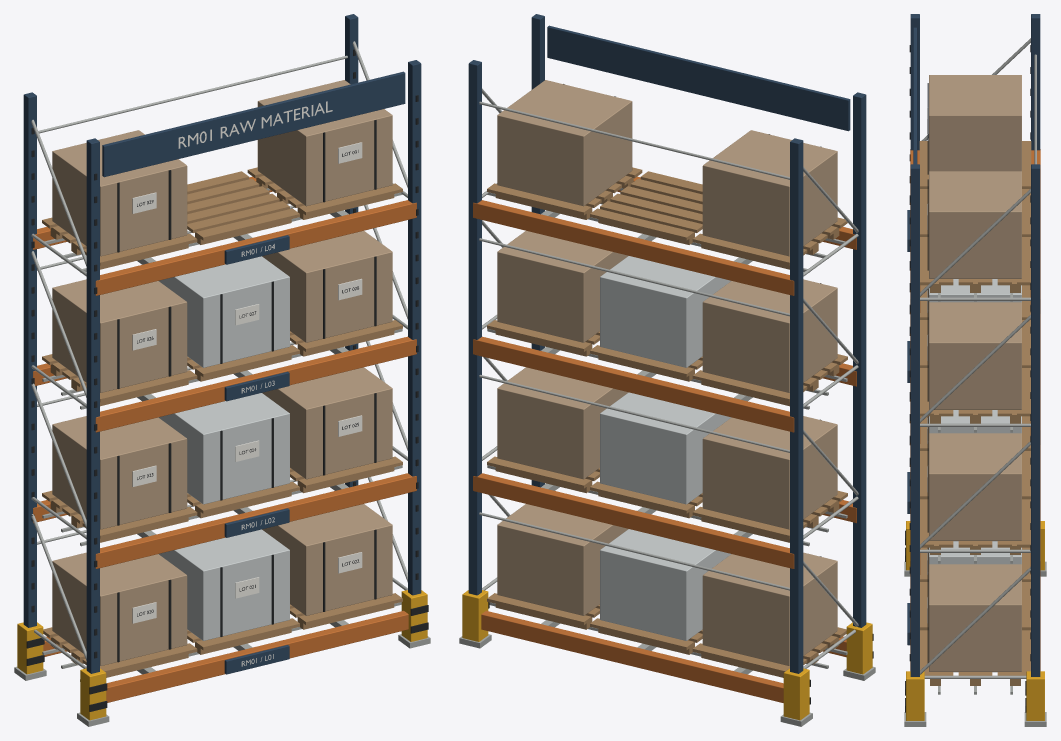
Rendered from factory-rack.glb.
The picture shows the model from 3 angles, left to right: view 1: azimuth 30°, elevation 25°; view 2: azimuth 150°, elevation 25°; view 3: azimuth 270°, elevation 25°; orthographic projection. The views are drawn at different scales.
Visible parts, largest first — view 1: factory-rack; view 2: factory-rack; view 3: factory-rack.
Boxes of the visible parts, x1=… form: factory-rack: x1=14, y1=14, x2=430, y2=726; factory-rack: x1=459, y1=14, x2=875, y2=726; factory-rack: x1=904, y1=14, x2=1046, y2=726.
Bounding box in the file's own units: 3.46 × 5.6 × 1.3.
